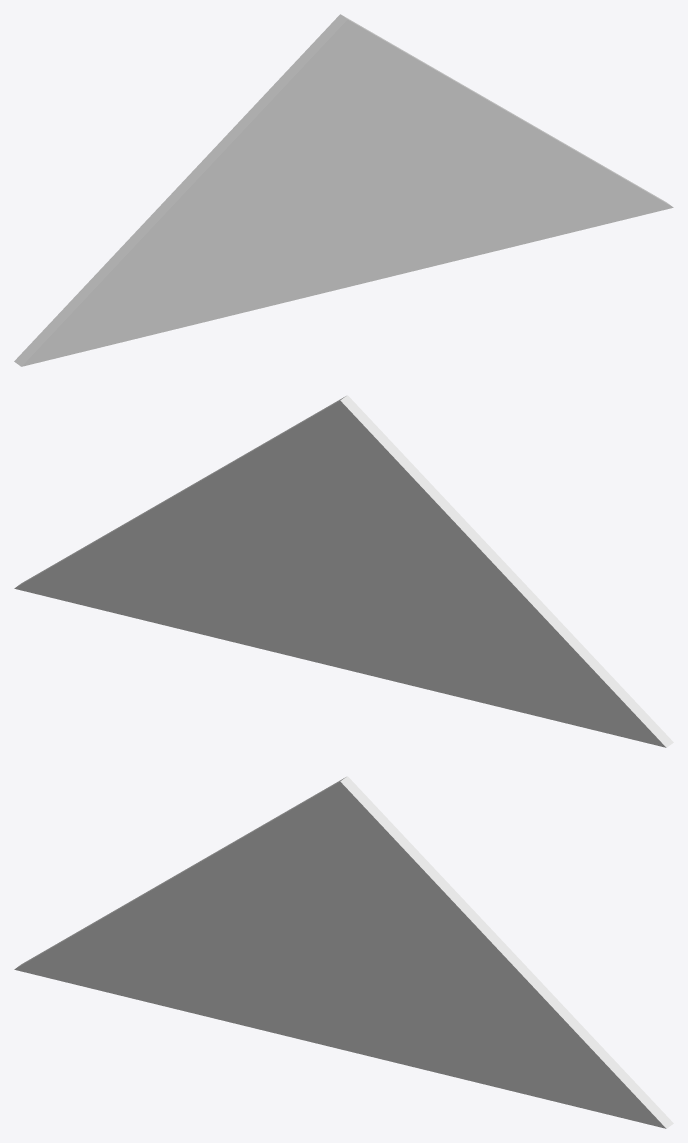
File: Wall1_C1_18.fbx
3 views of the same model, one above another, from view 1: azimuth 30°, elevation 25°; view 2: azimuth 150°, elevation 25°; view 3: azimuth 330°, elevation 25° (orthographic).
Visible parts, largest first — view 1: Wall1_C1_18; view 2: Wall1_C1_18; view 3: Wall1_C1_18.
Part boxes in pixels (left/top/right/bottom): Wall1_C1_18: left=14, top=14, right=673, bottom=366; Wall1_C1_18: left=14, top=395, right=673, bottom=747; Wall1_C1_18: left=14, top=776, right=673, bottom=1128.
Bounding box in the file's own units: 765 × 300 × 15.
